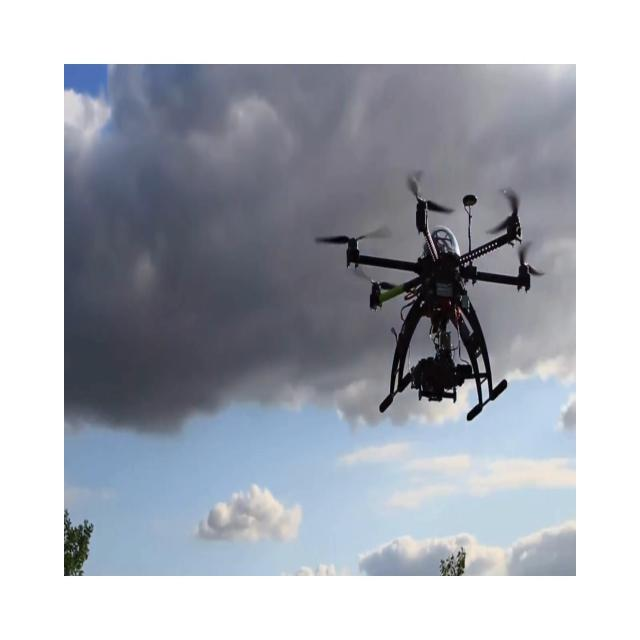drone: (314, 171, 545, 421)
